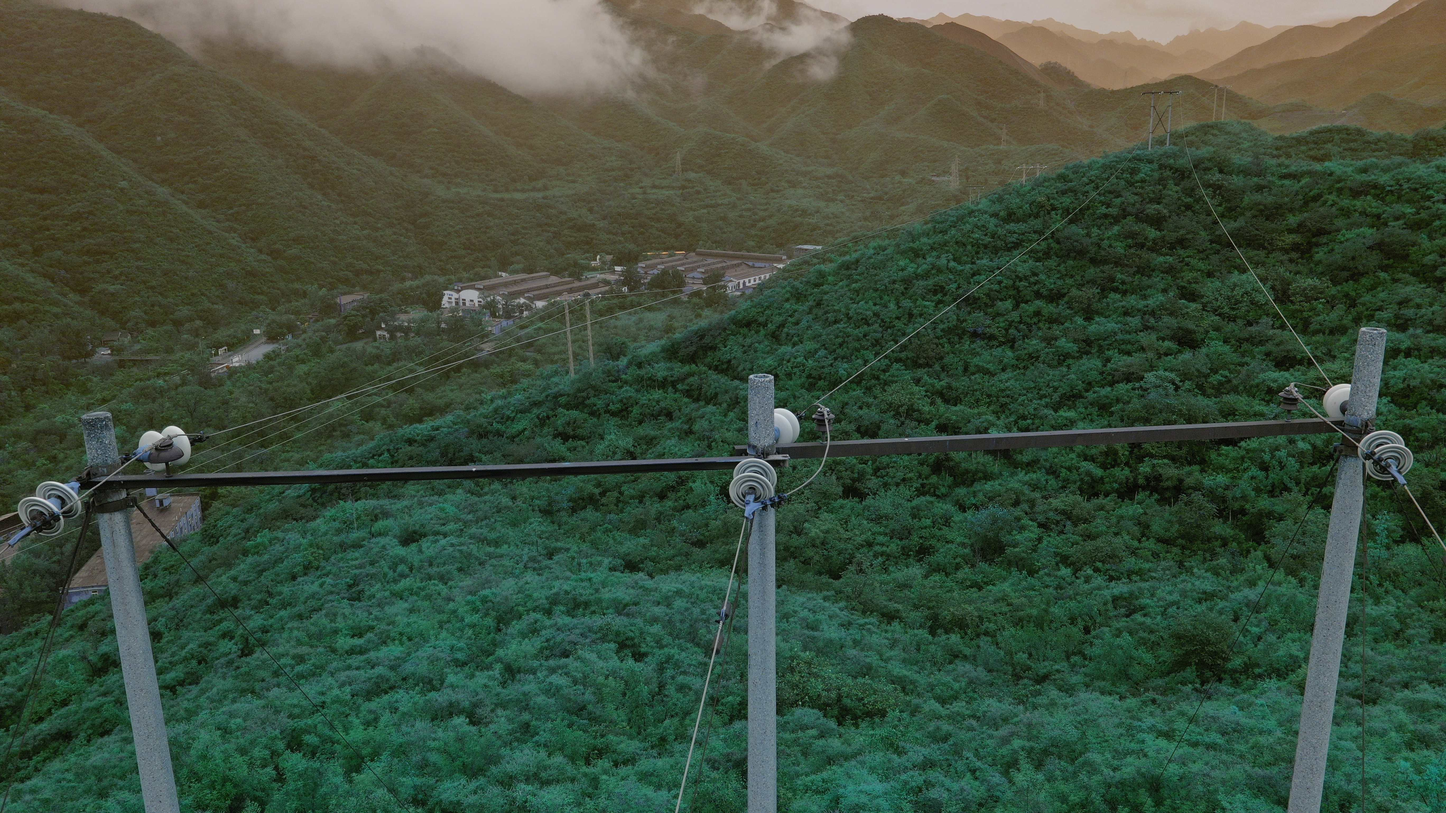severe_soiling_no_discharge_whole: (16, 481, 82, 538), (1356, 430, 1414, 481), (725, 458, 778, 510)
